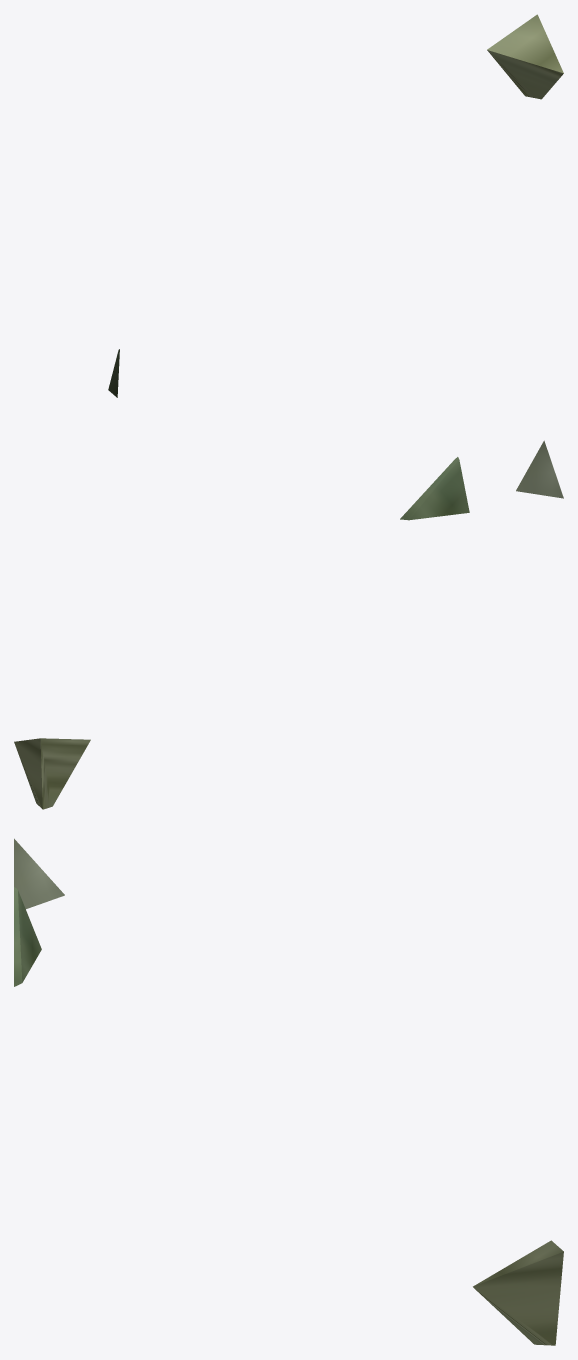
The picture shows the model from 3 angles, top to bottom: view 1: azimuth 30°, elevation 25°; view 2: azimuth 210°, elevation 25°; view 3: azimuth 270°, elevation 25°; orthographic projection. The views are drawn at different scales.
Size of the model in its own units: 1.07 by 0.1074 by 0.5478.
1 material, 1 textured.
